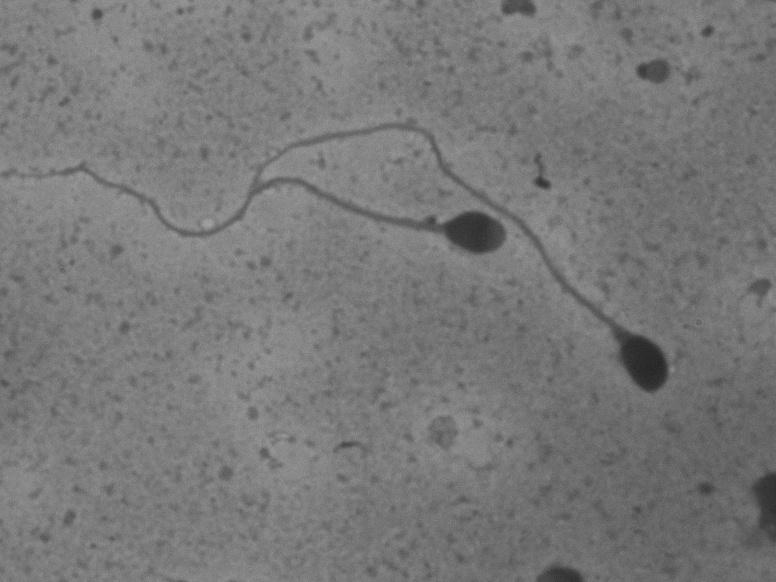Normal: (246, 110, 679, 410), (4, 149, 514, 273)
